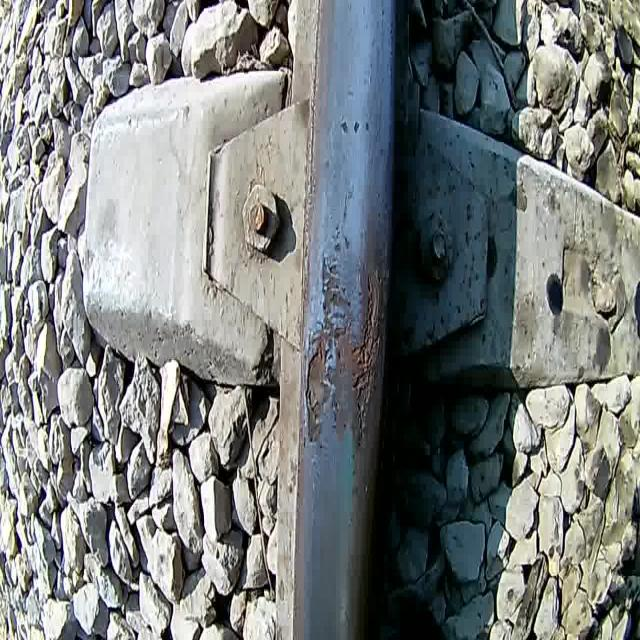Spallings: (299, 187, 386, 455)
